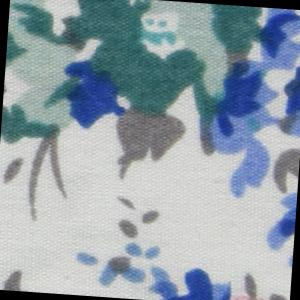Stain: (214, 289, 285, 300)
